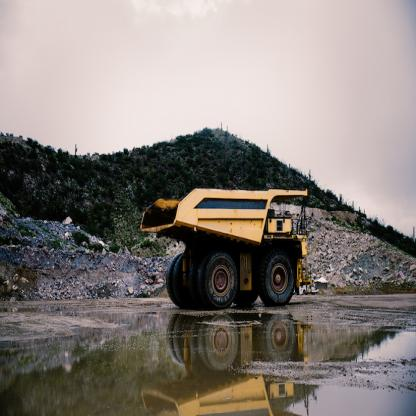dump_truck: (143, 180, 318, 309)
